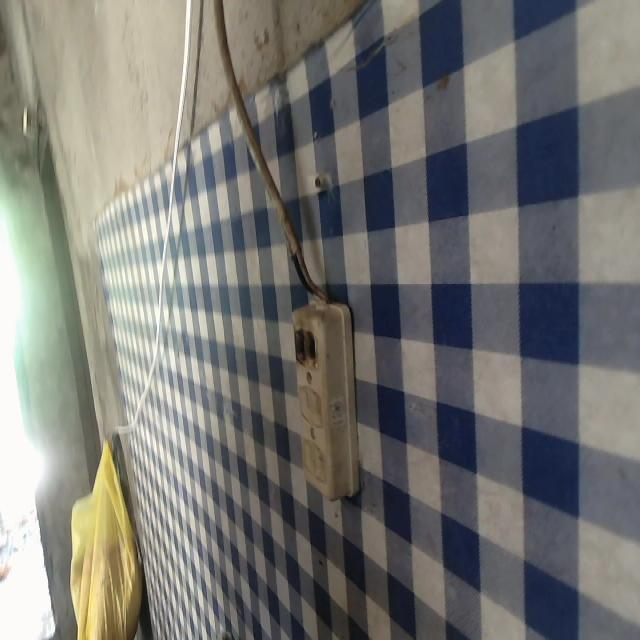-: (281, 320, 331, 375)
